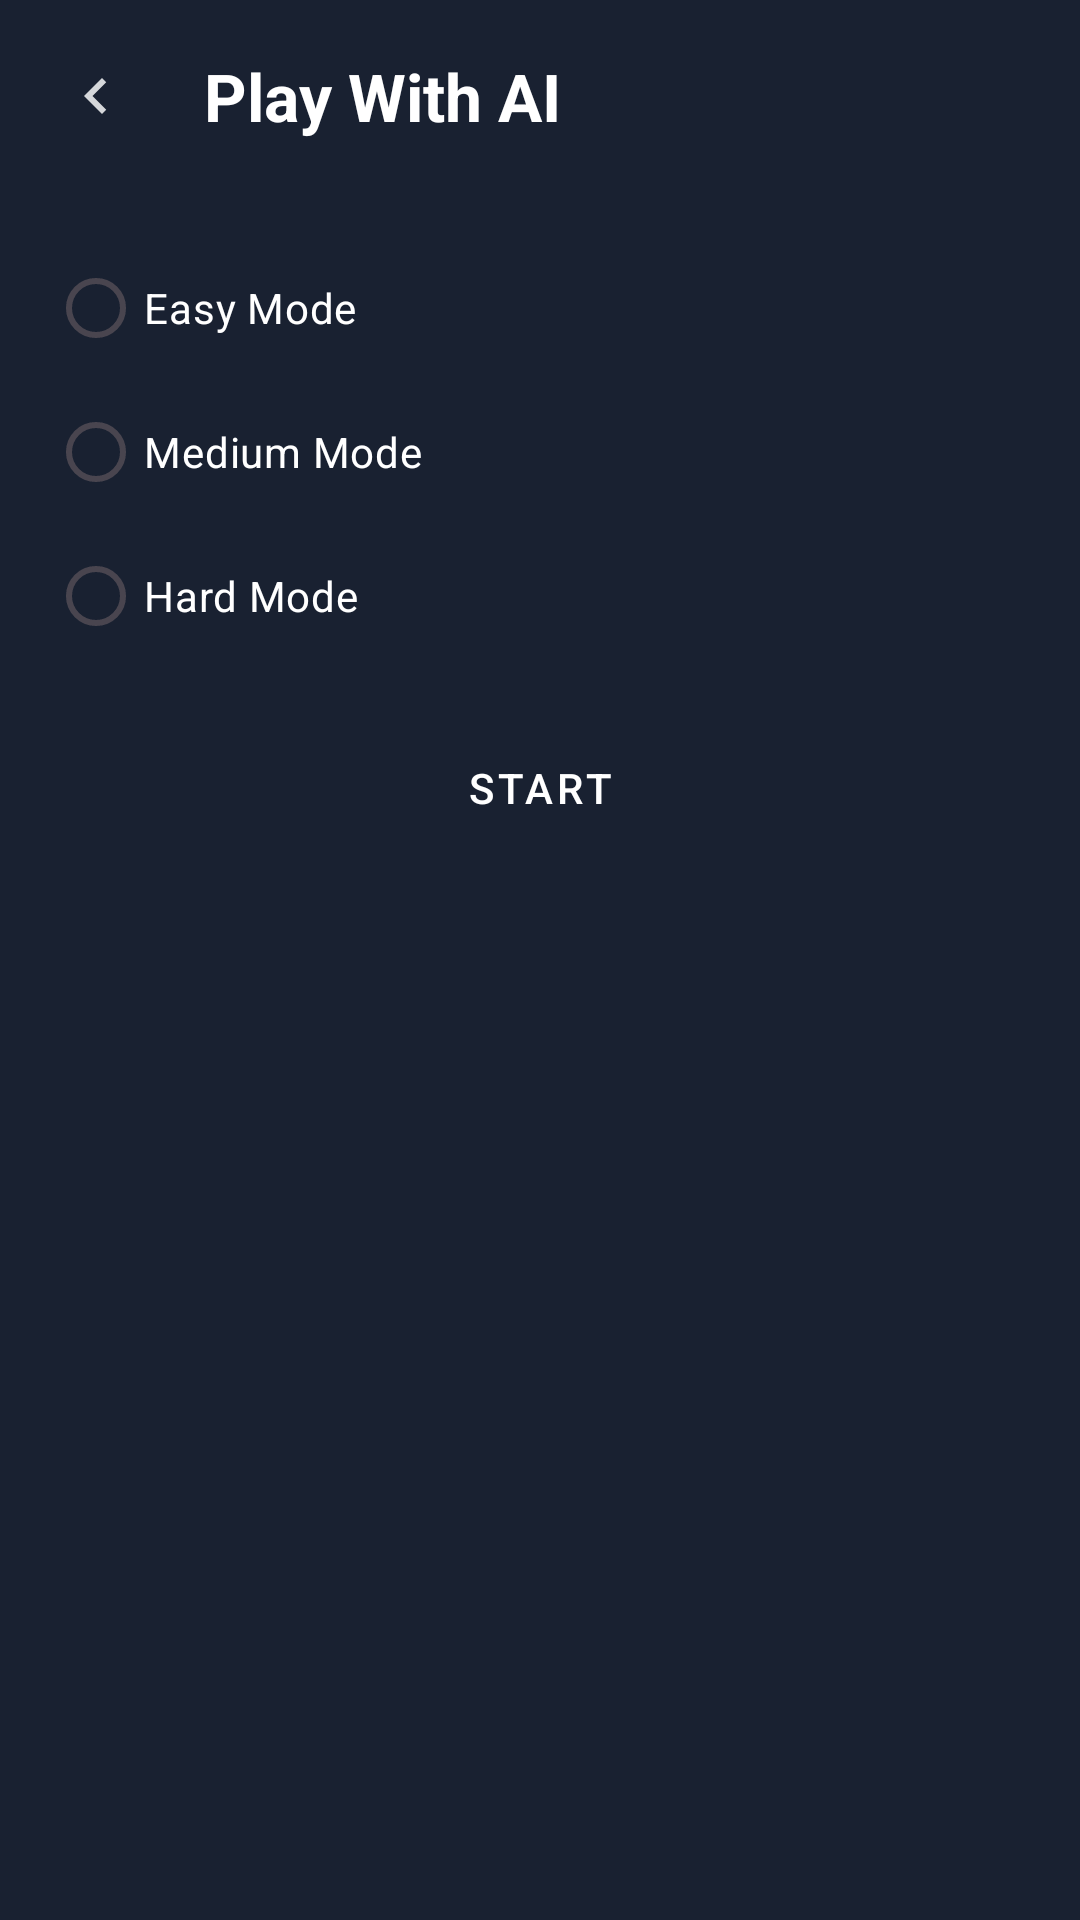

Where to tap for icons on this 1080 x 1920 app screen, as point (x, y):
back chevron: point (95, 96)
